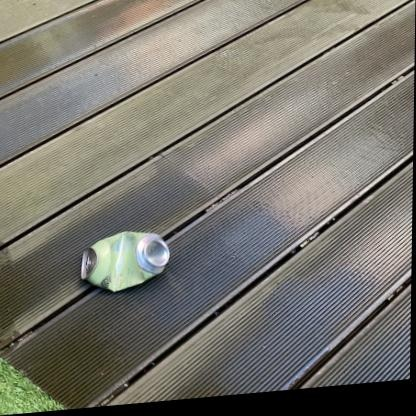trash: (81, 231, 169, 291)
